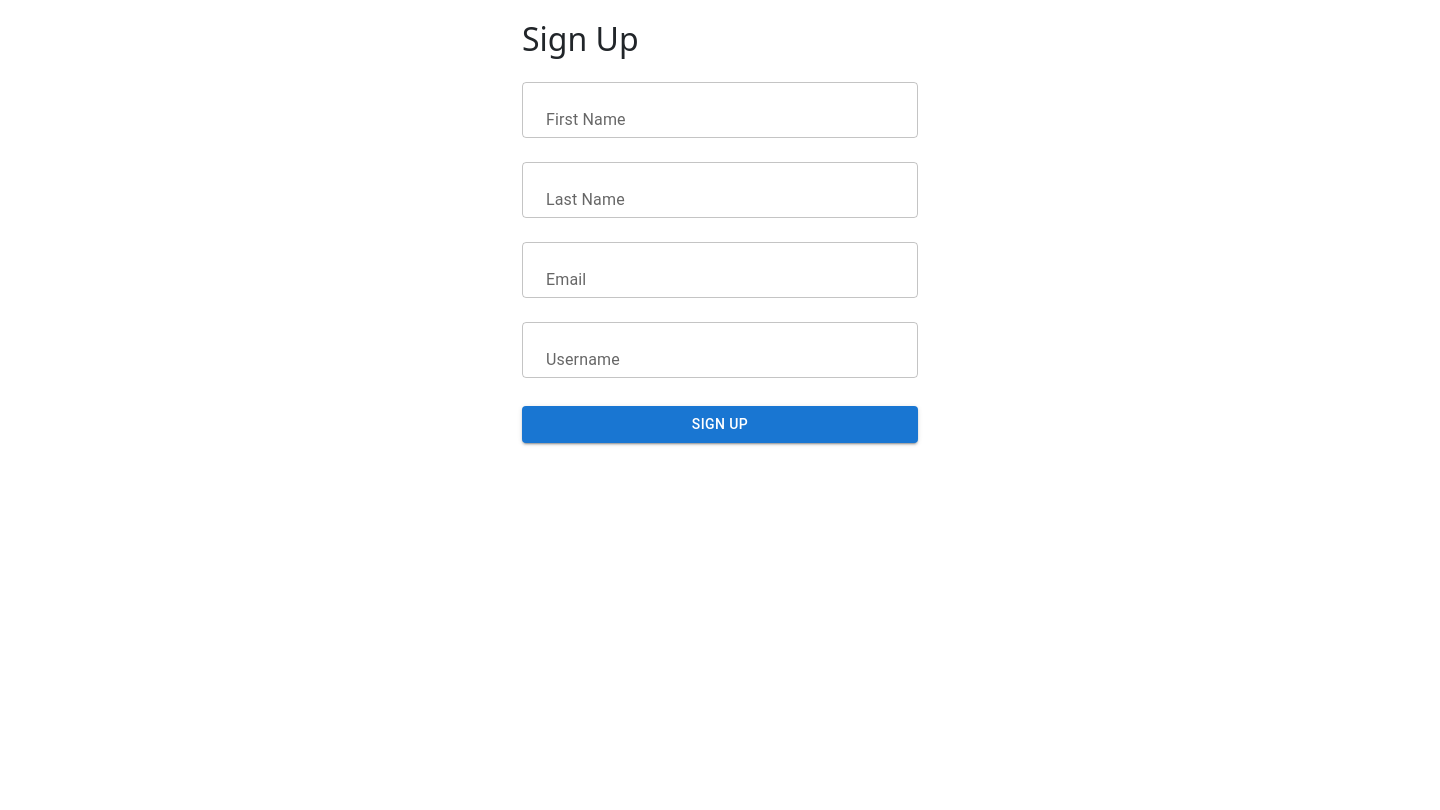
Test: NewUserComponent › handles form submission and displays a success message
The width and height of the screenshot is (1440, 810).
In the field labelled "First Name": (720, 110) x1=522 y1=82 x2=918 y2=138, type "John"
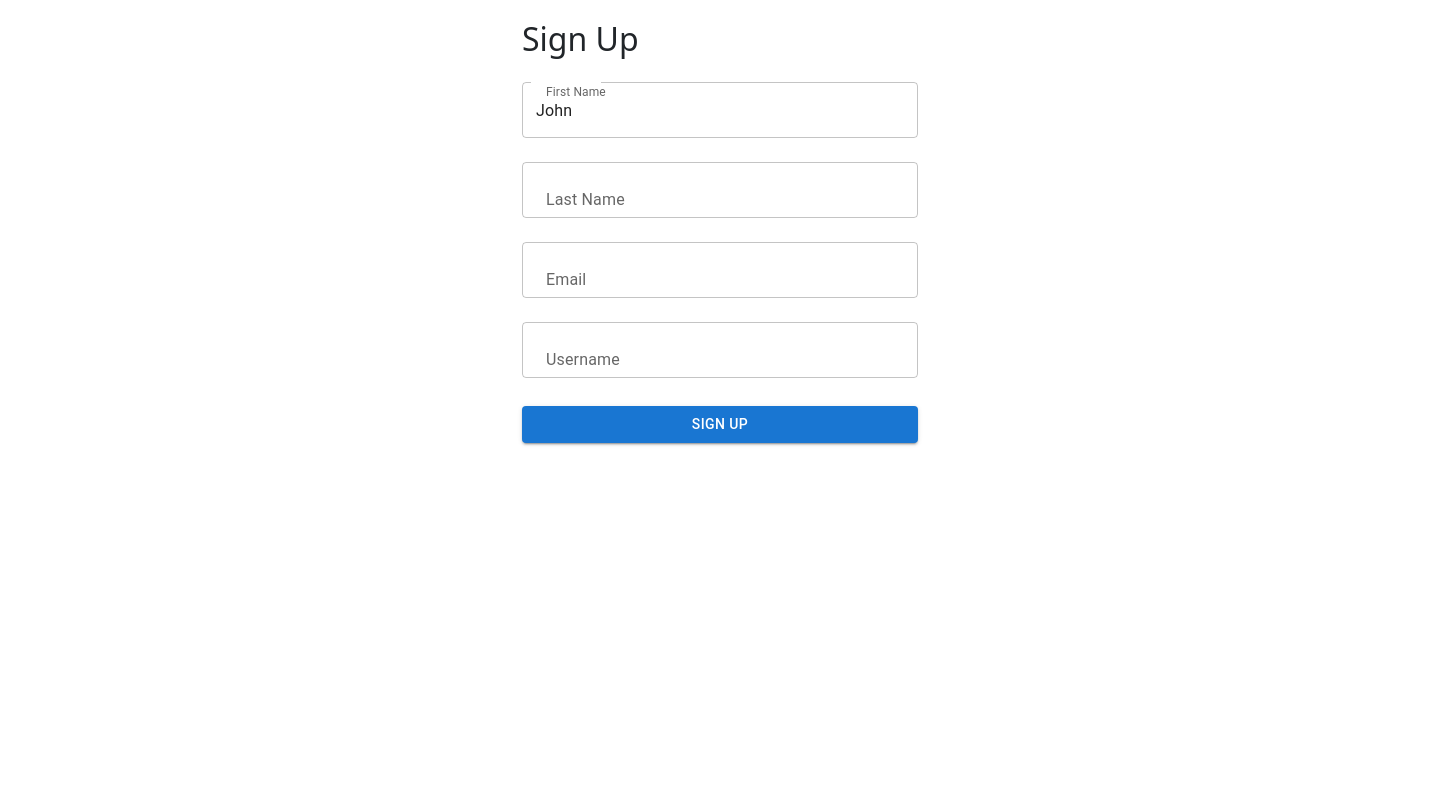
In the field labelled "Last Name": (720, 190) x1=522 y1=162 x2=918 y2=218, type "Doe"
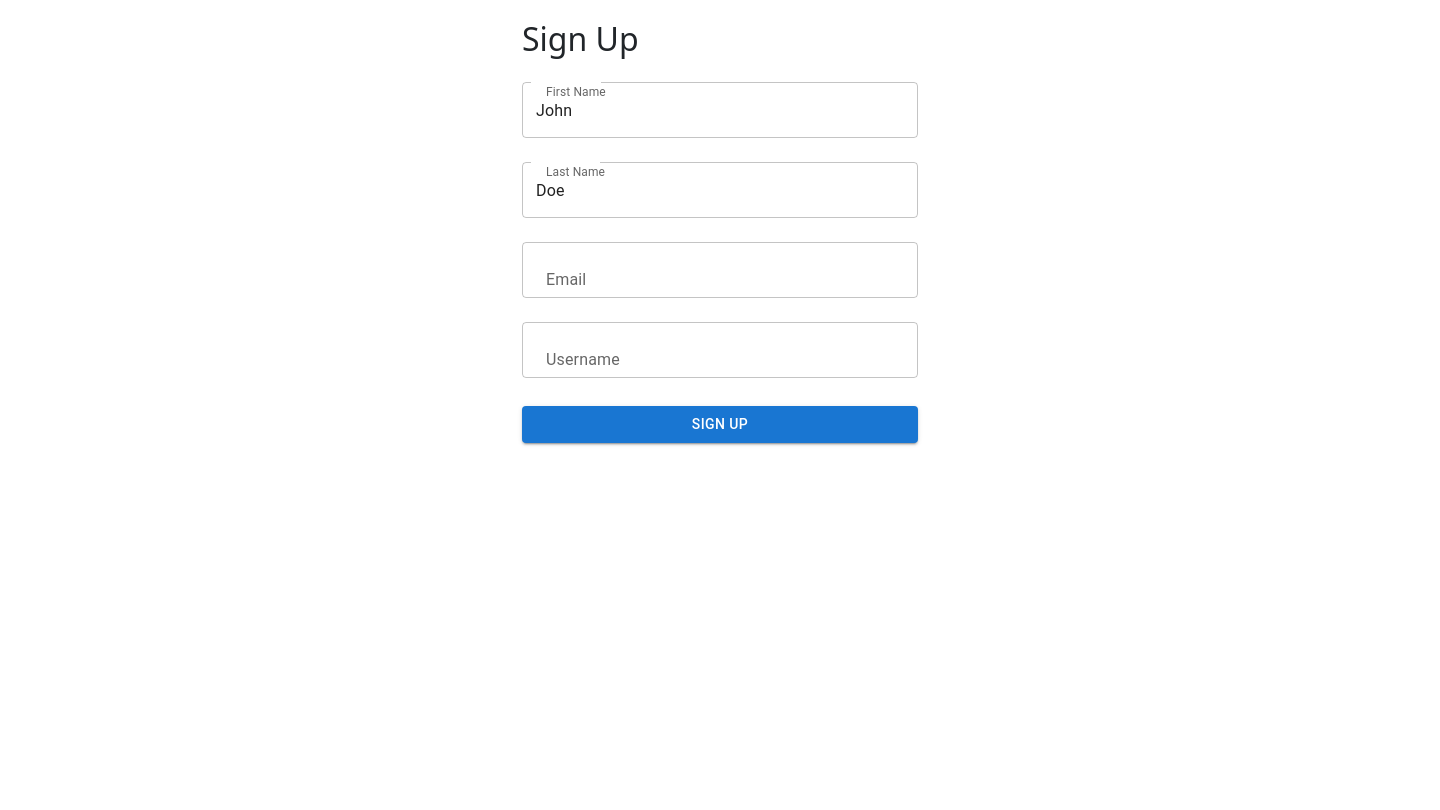
In the field labelled "Email": (720, 270) x1=522 y1=242 x2=918 y2=298, type "john@example.com"
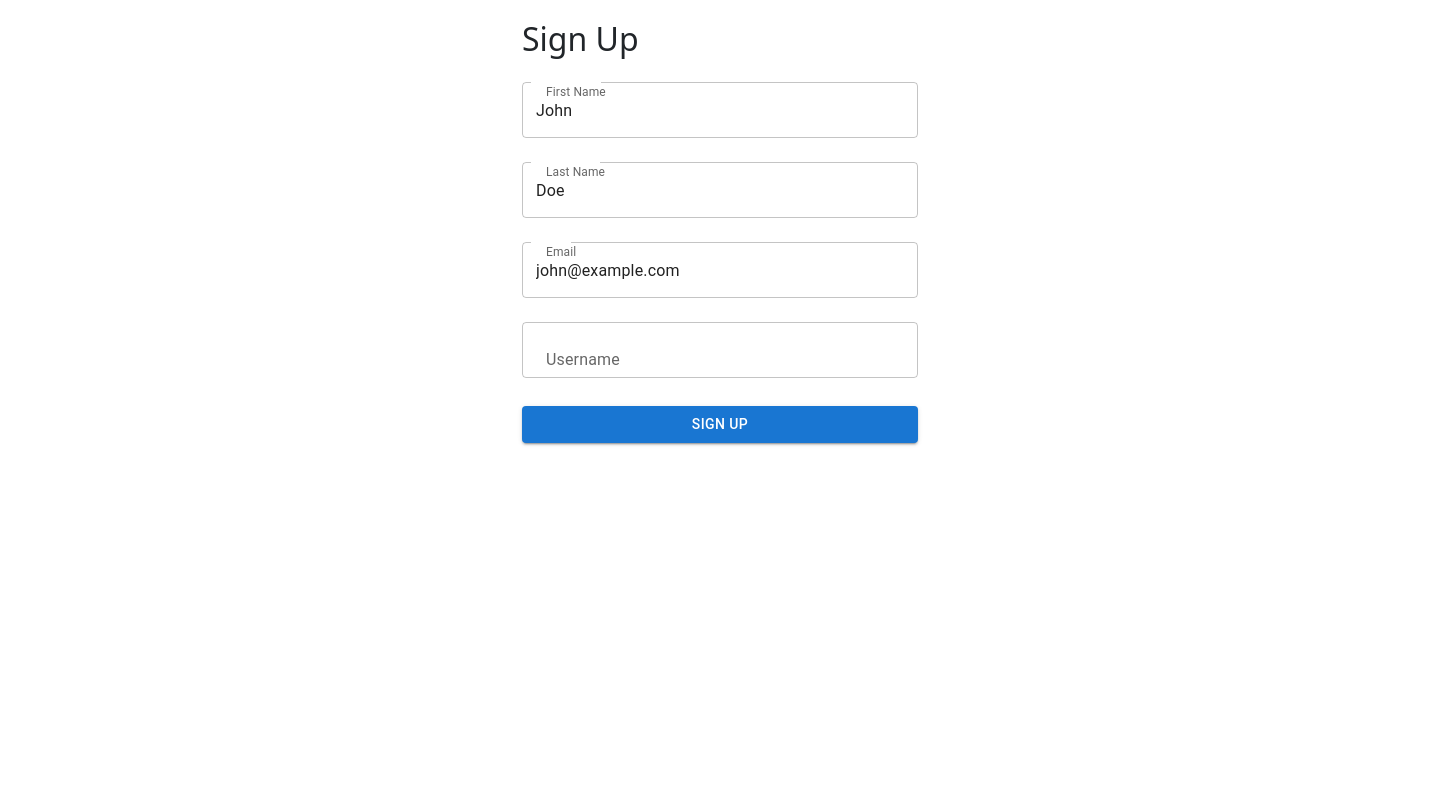
In the field labelled "Username": (720, 350) x1=522 y1=322 x2=918 y2=378, type "johndoe"
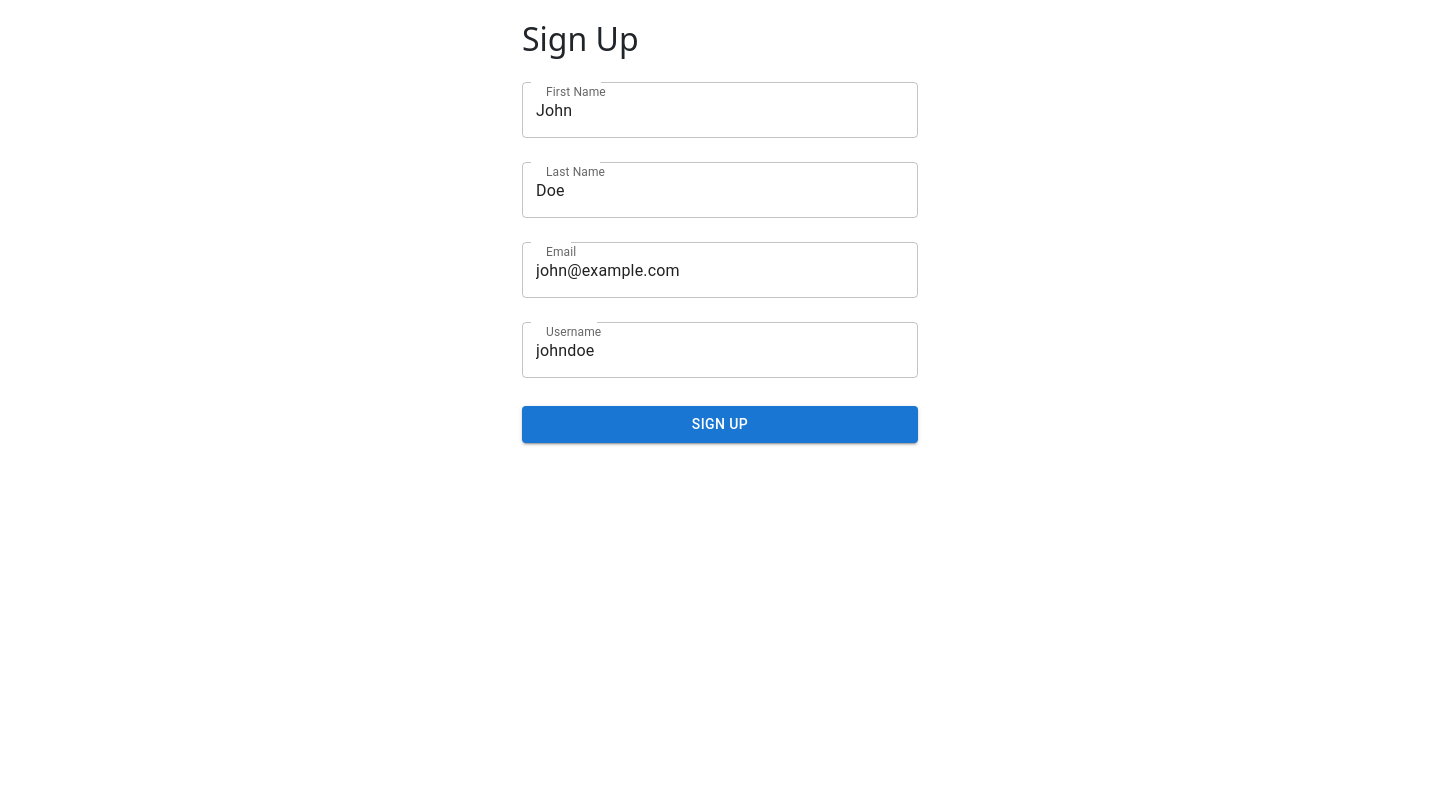
Click the button with test id "sign-up-button": (720, 425) x1=522 y1=406 x2=918 y2=443
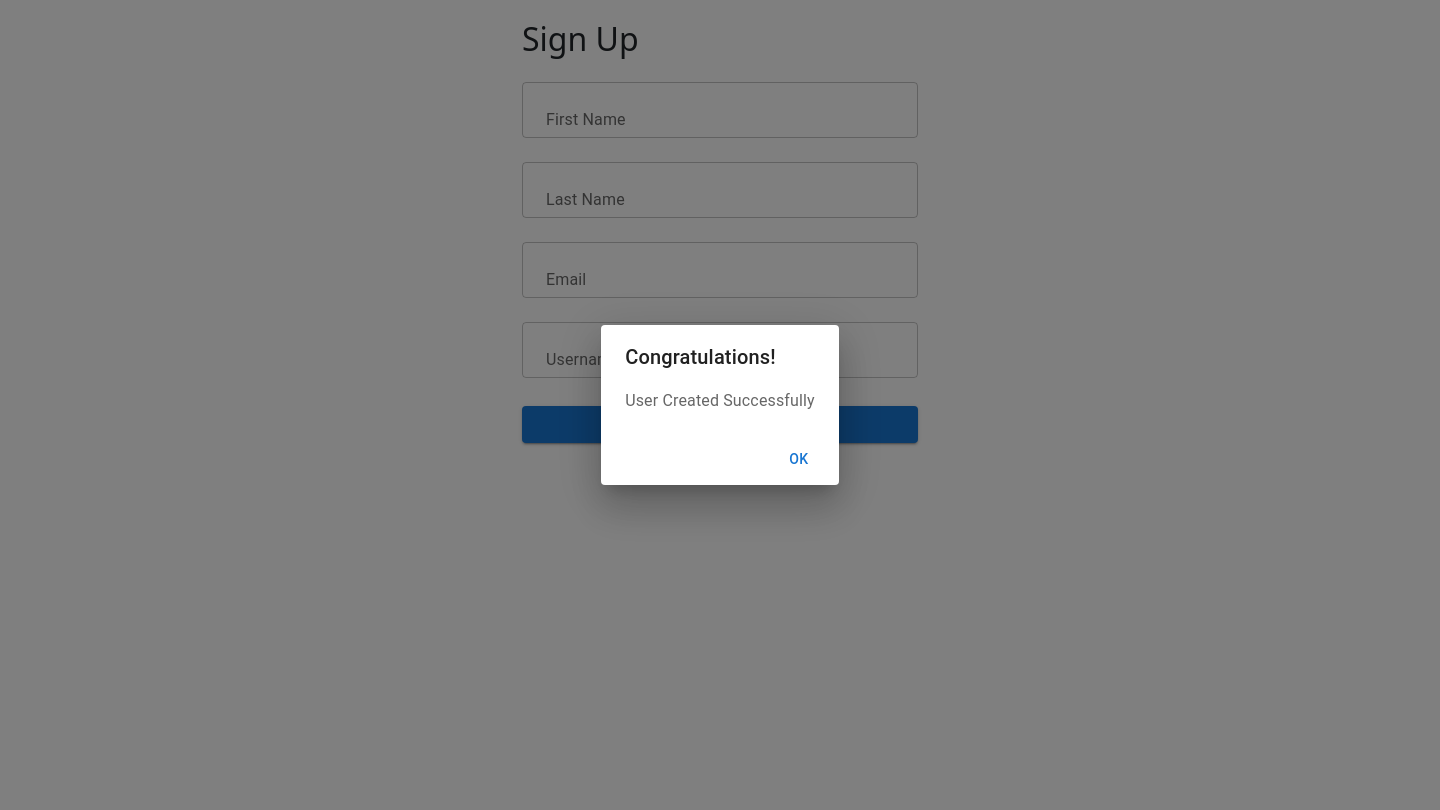
Now the text "User Created Successfully" is shown, box x1=625 y1=389 x2=815 y2=413
